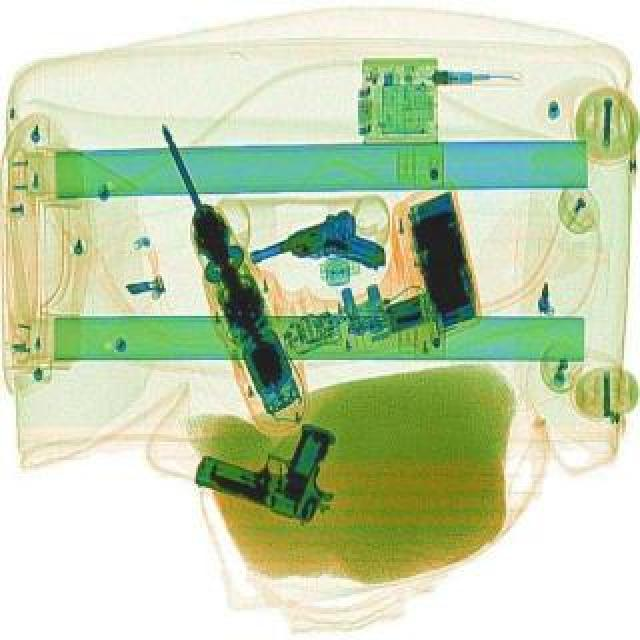gun: (190, 392, 358, 526), (244, 200, 392, 310)
